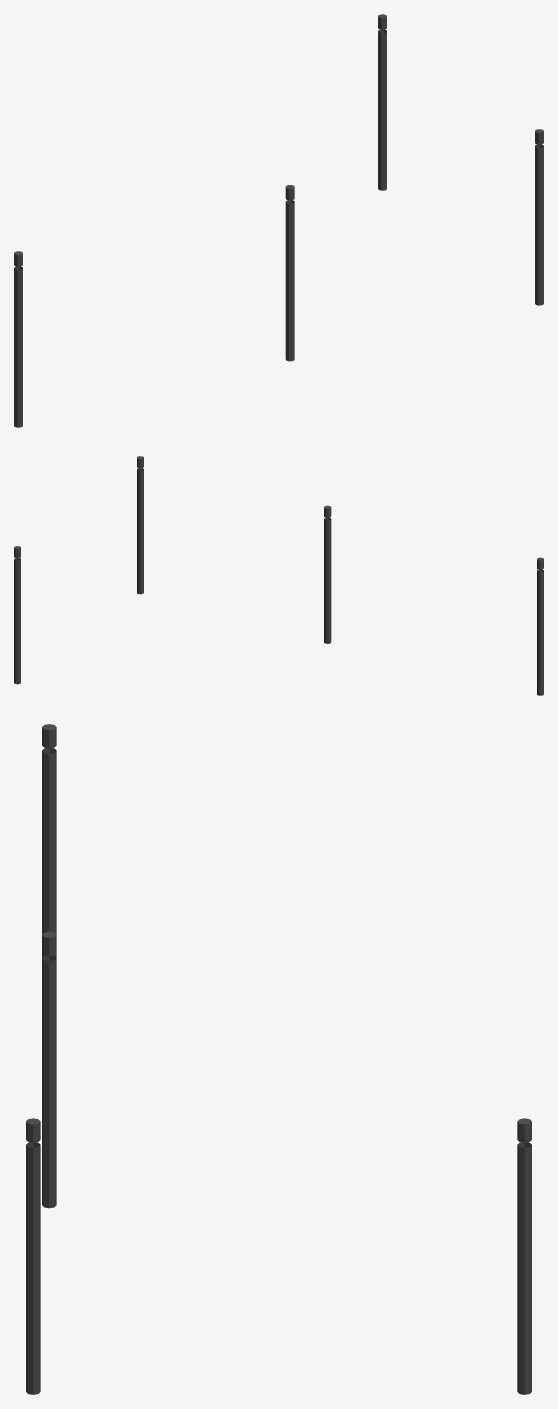
The model's file is buildig.001_metal_(dark)_0_lev3.glb.
The picture shows the model from 3 angles, top to bottom: view 1: azimuth 30°, elevation 25°; view 2: azimuth 150°, elevation 25°; view 3: azimuth 270°, elevation 25°; orthographic projection. The views are drawn at different scales.
Parts seen in each view (by area): view 1: buildig.001_metal_(dark)_0_lev3; view 2: buildig.001_metal_(dark)_0_lev3; view 3: buildig.001_metal_(dark)_0_lev3.
Boxes of the visible parts, x1=… form: buildig.001_metal_(dark)_0_lev3: x1=14, y1=14, x2=543, y2=427; buildig.001_metal_(dark)_0_lev3: x1=14, y1=456, x2=543, y2=695; buildig.001_metal_(dark)_0_lev3: x1=26, y1=724, x2=531, y2=1394.
Bounding box in the file's own units: 1.72 × 0.5422 × 0.9201.
1 material, 1 textured.
